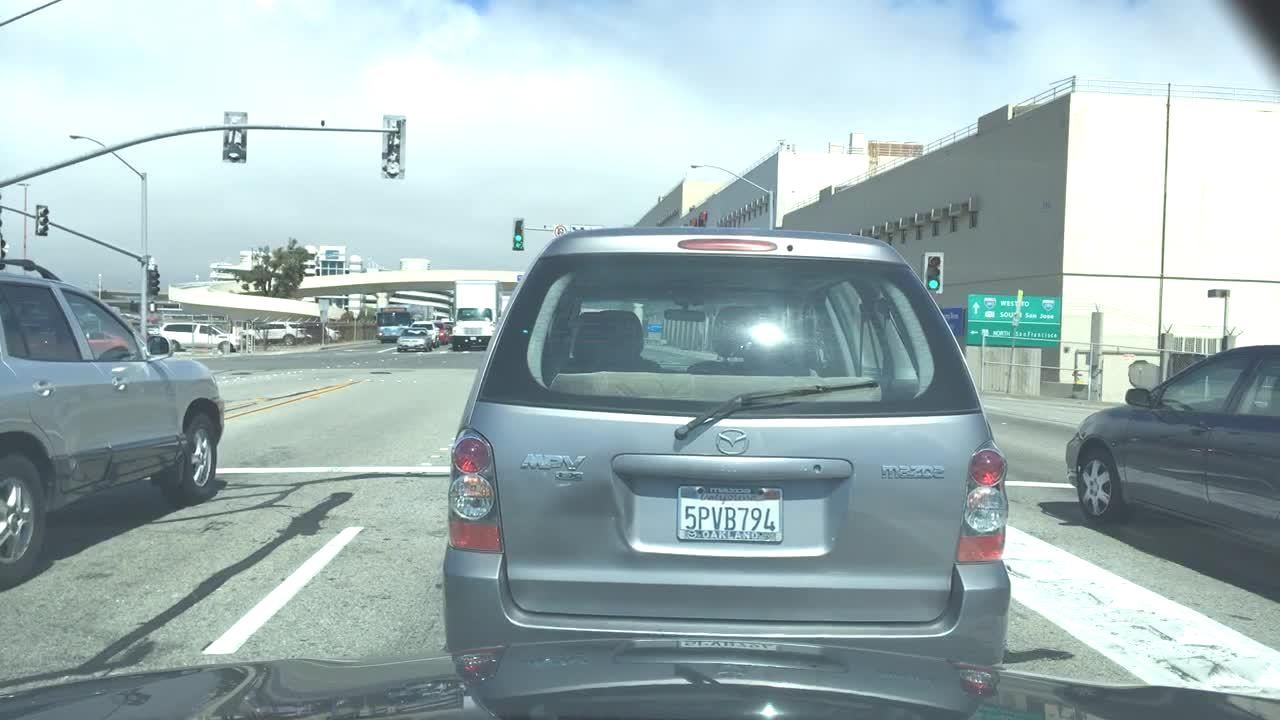Mazda: (711, 419, 762, 469)
